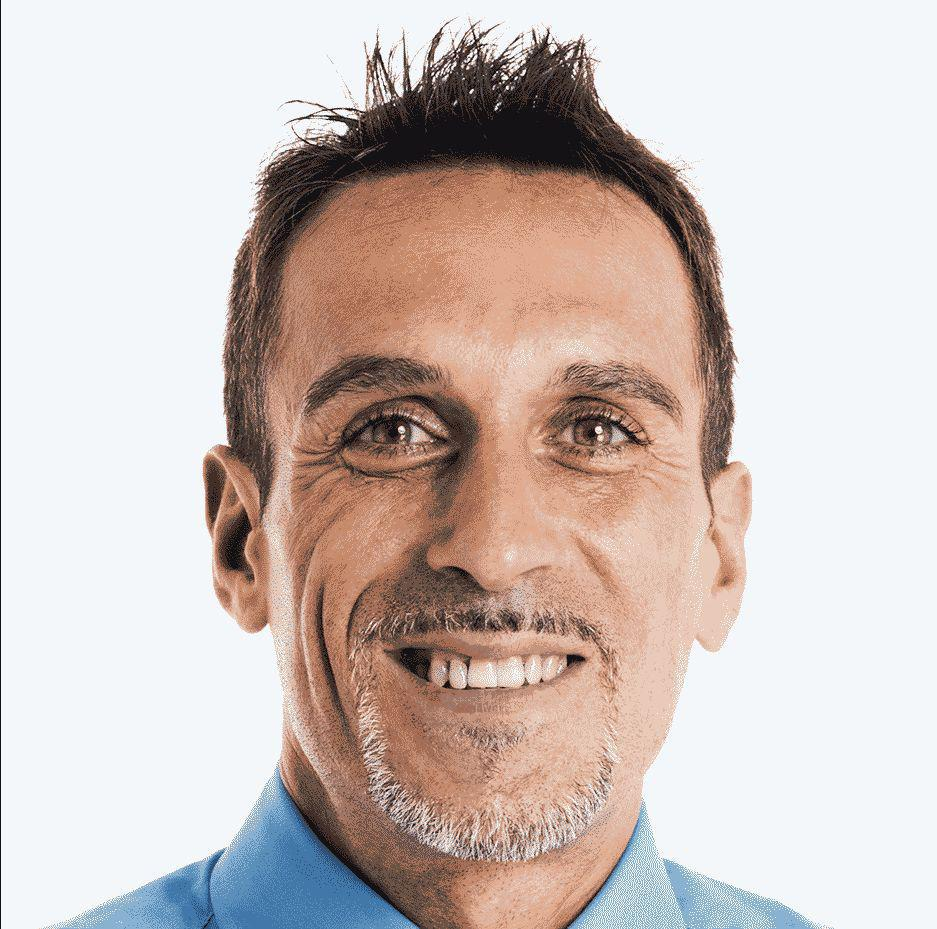Sober: (307, 222, 702, 758)
